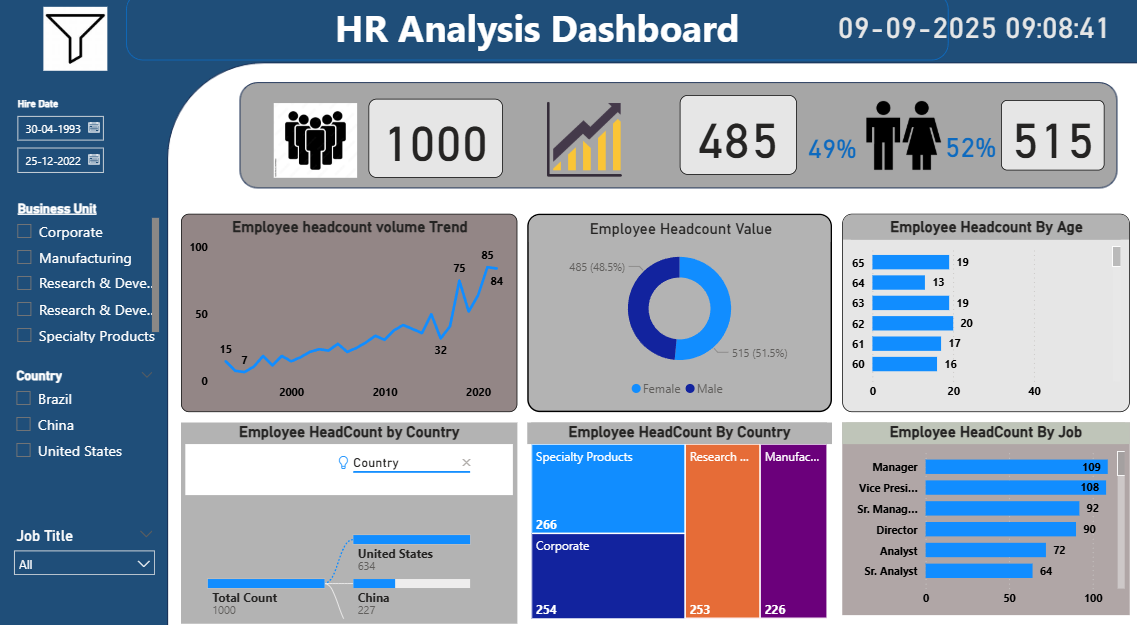

The dashboard page shown, as its layout file describes it:
{"tool":"powerbi","page":{"name":"Page 1","canvas":[1280,720],"ordinal":0},"visuals":[{"type":"image","box":[296.4,120.8,118,93.3],"z":0},{"type":"lineChart","title":"Employee headcount volume Trend ","fields":{"Category":["Employee Data.Hire Date.Variation.Date Hierarchy.Year"],"Y":["CountNonNull(Employee Data.Employee ID)"]},"box":[205.8,248.4,374.6,220.9],"z":1000},{"type":"donutChart","title":"Employee Headcount Value","fields":{"Category":["Employee Data.Gender"],"Y":["CountNonNull(Employee Data.Employee ID)"]},"box":[591.4,248.4,338.9,220.9],"z":2000},{"type":"clusteredBarChart","title":" Employee Headcount  By Age","fields":{"Category":["Employee Data.Age"],"Y":["CountNonNull(Employee Data.Employee ID)"]},"box":[941.3,248.4,319.7,220.9],"z":3000},{"type":"decompositionTreeVisual","title":"Employee HeadCount by Country","fields":{"Analyze":["CountNonNull(Employee Data.Country)"],"ExplainBy":["Employee Data.Country"]},"box":[205.8,481.6,374.6,223.7],"z":4000},{"type":"treemap","title":" Employee HeadCount By Country","fields":{"Group":["Employee Data.Business Unit"],"Values":["CountNonNull(Employee Data.Employee ID)"]},"box":[591.4,481.6,338.9,223.7],"z":5000},{"type":"clusteredBarChart","title":" Employee HeadCount By Job","fields":{"Category":["Employee Data.Job Title"],"Y":["CountNonNull(Employee Data.Employee ID)"]},"box":[941.3,481.6,319.7,214.1],"z":6000},{"type":"card","fields":{"Values":["Employee Data.Total_count"]},"box":[414.4,120.8,149.6,87.8],"z":7000},{"type":"image","box":[901.5,115.3,216.8,93.3],"z":8000},{"type":"card","fields":{"Values":["Employee Data.Total_Female"]},"box":[1118.4,122.1,115.3,78.2],"z":9000},{"type":"card","fields":{"Values":["Employee Data.Male%"]},"box":[891.9,140,78.2,70],"z":10000},{"type":"card","fields":{"Values":["Employee Data.Female%"]},"box":[1049.7,150.9,68.6,46.7],"z":11000},{"type":"card","fields":{"Values":["Employee Data.Total_Male"]},"box":[761.6,116.6,130.4,89.2],"z":12000},{"type":"shape","box":[144.3,2.9,915.7,75.7],"z":13000},{"type":"image","box":[580.4,116.6,149.6,98.8],"z":14000},{"type":"slicer","fields":{"Values":["Employee Data.Business Unit"]},"box":[11.4,230,175.7,168.6],"z":15000},{"type":"slicer","fields":{"Values":["Employee Data.Country"]},"box":[10,415.7,177.1,161.4],"z":16000},{"type":"slicer","fields":{"Values":["Employee Data.Job Title"]},"box":[10,592.9,177.1,97.1],"z":17000},{"type":"slicer","fields":{"Values":["Employee Data.Hire Date"]},"box":[11.4,115.7,178.6,97.1],"z":18000},{"type":"card","fields":{"Values":["Min(Query1.Last Refresh)"]},"box":[917.1,14.3,344.3,51.4],"z":19000},{"type":"image","box":[11,13.7,153.7,81],"z":20000}]}

Visuals, with their boxes in screenshot pixels (x1, y1, x2, y2), scaled from the page's 1280x720 canvas onto the 1137x625 screenshot:
image: 263,105,368,186
"Employee headcount volume Trend " lineChart: 183,216,516,407
"Employee Headcount Value" donutChart: 525,216,826,407
" Employee Headcount  By Age" clusteredBarChart: 836,216,1120,407
"Employee HeadCount by Country" decompositionTreeVisual: 183,418,516,612
" Employee HeadCount By Country" treemap: 525,418,826,612
" Employee HeadCount By Job" clusteredBarChart: 836,418,1120,604
card - Employee Data.Total_count: 368,105,501,181
image: 801,100,993,181
card - Employee Data.Total_Female: 993,106,1096,174
card - Employee Data.Male%: 792,122,862,182
card - Employee Data.Female%: 932,131,993,172
card - Employee Data.Total_Male: 677,101,792,179
shape: 128,3,942,68
image: 516,101,648,187
slicer - Employee Data.Business Unit: 10,200,166,346
slicer - Employee Data.Country: 9,361,166,501
slicer - Employee Data.Job Title: 9,515,166,599
slicer - Employee Data.Hire Date: 10,100,169,185
card - Min(Query1.Last Refresh): 815,12,1120,57
image: 10,12,146,82
